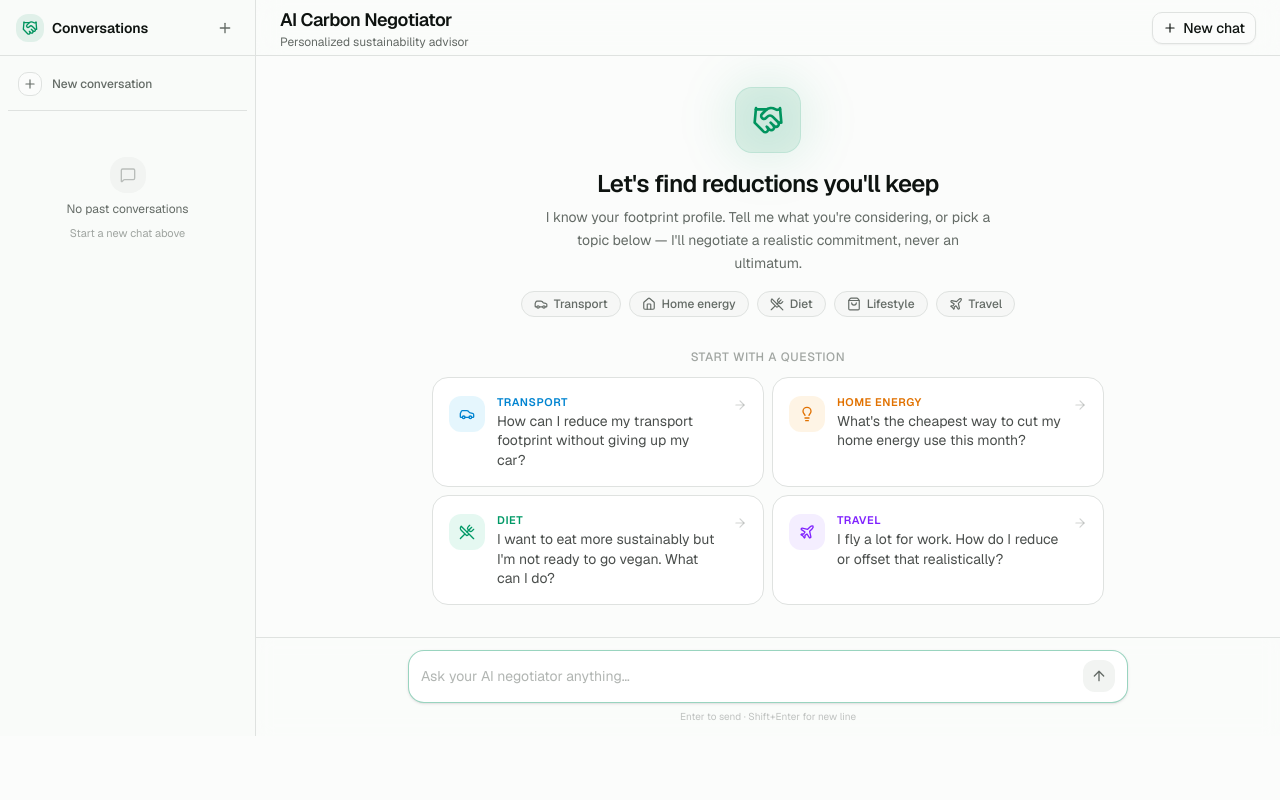
Test: NegotiatorClient › sends message and shows user message
The image size is (1280, 800).
Type "Help me reduce my footprint" into the text box named "message input" at (748,677), box x1=421 y1=659 x2=1075 y2=694
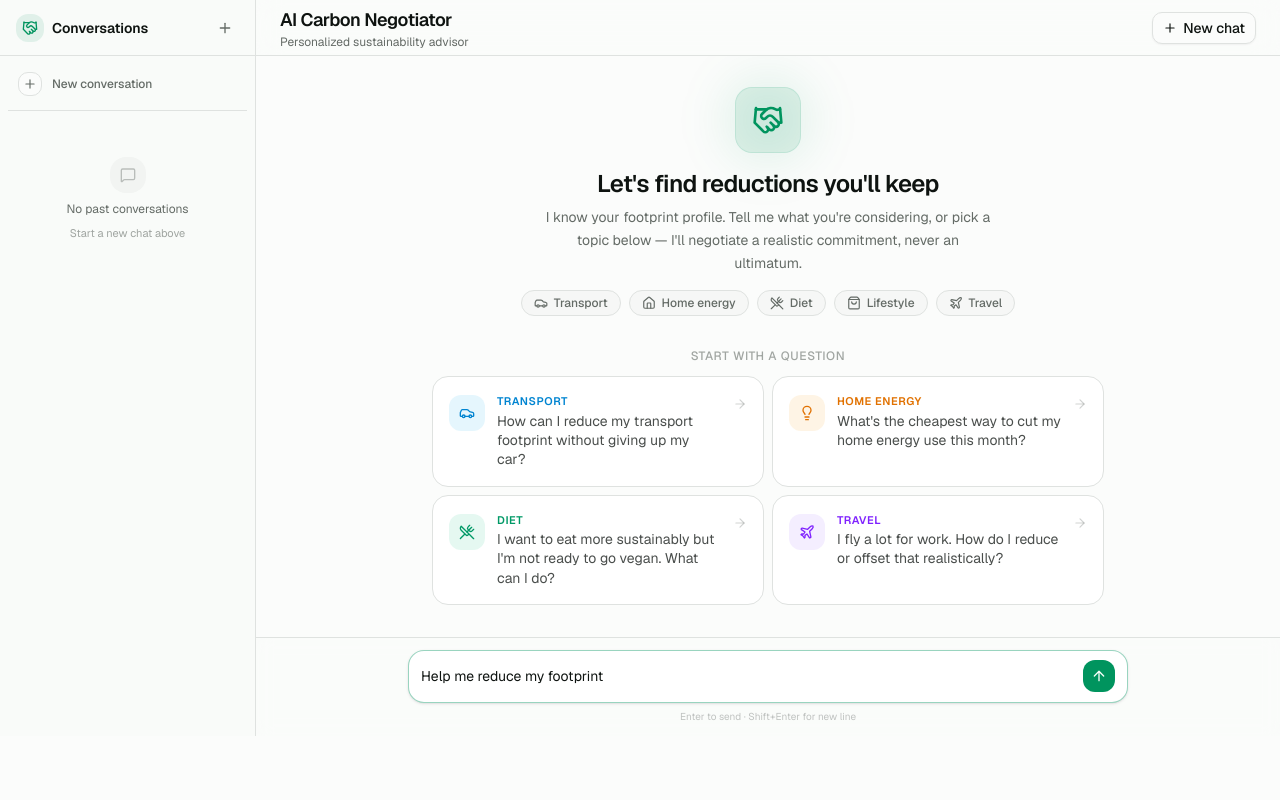
Click the button named "send message" at (1099,676), box x1=1083 y1=660 x2=1115 y2=692
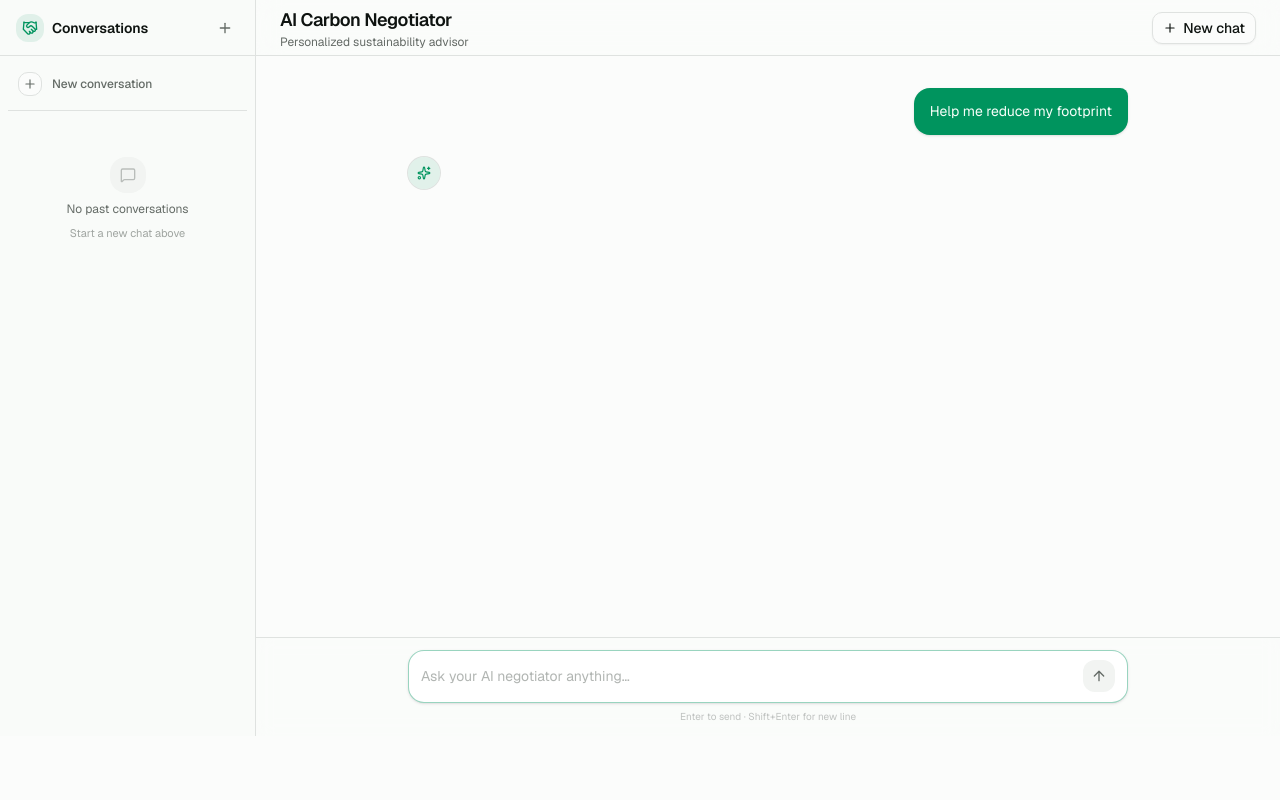
expect the text "Help me reduce my footprint" is shown: met, box x1=930 y1=100 x2=1112 y2=123
